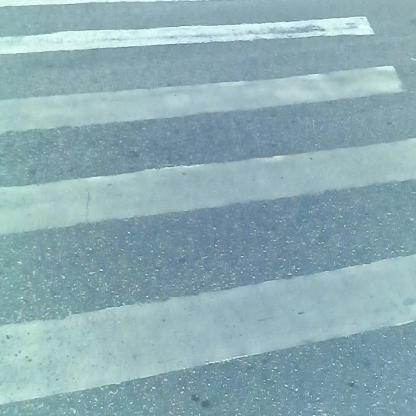crosswalk: (5, 9, 416, 390)
